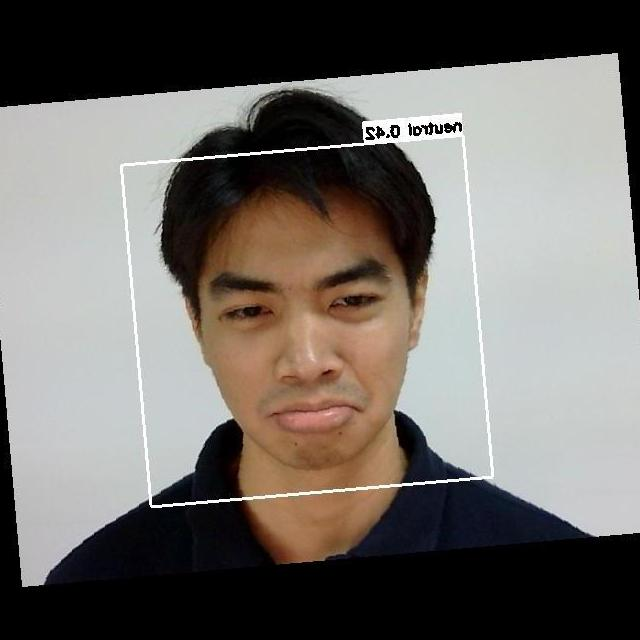Sad: (162, 224, 443, 446)
